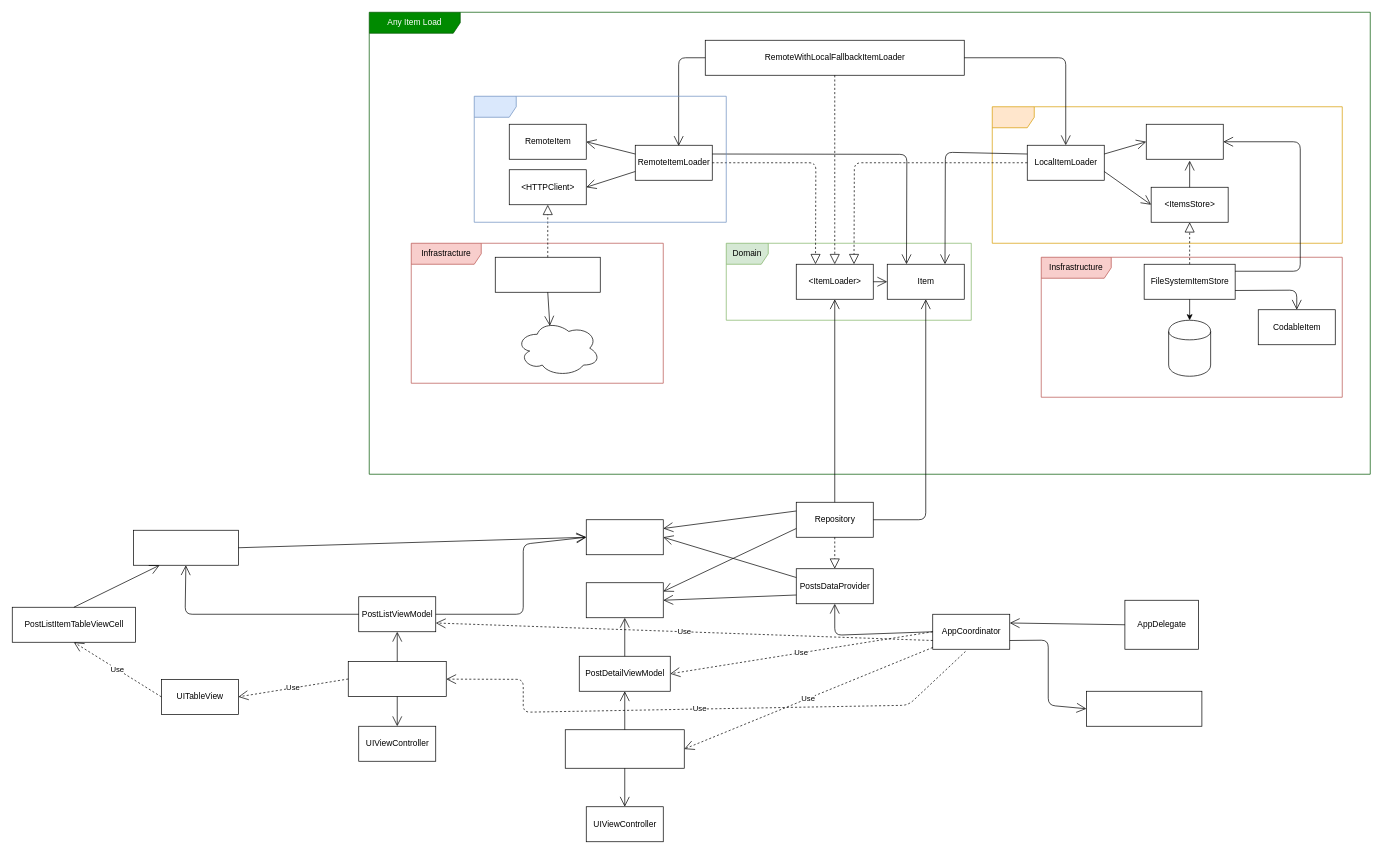
This 1383x854 diagram has some shape labels left out. Each missing label, with the box of its shape:
API: (474, 96, 726, 222)
Backend: (516, 320, 600, 376)
Cache: (992, 106, 1342, 243)
File System: (1168, 320, 1211, 376)
LocalItem: (1146, 124, 1223, 159)
PostDetailModel: (586, 582, 663, 618)
PostDetailViewController: (565, 729, 684, 768)
PostListItemModel: (586, 519, 663, 555)
PostListItemViewModel: (133, 530, 238, 565)
PostListViewController: (348, 661, 446, 696)
UINavigationController: (1086, 691, 1202, 726)
URLSessionHTTPClient: (495, 257, 600, 292)
